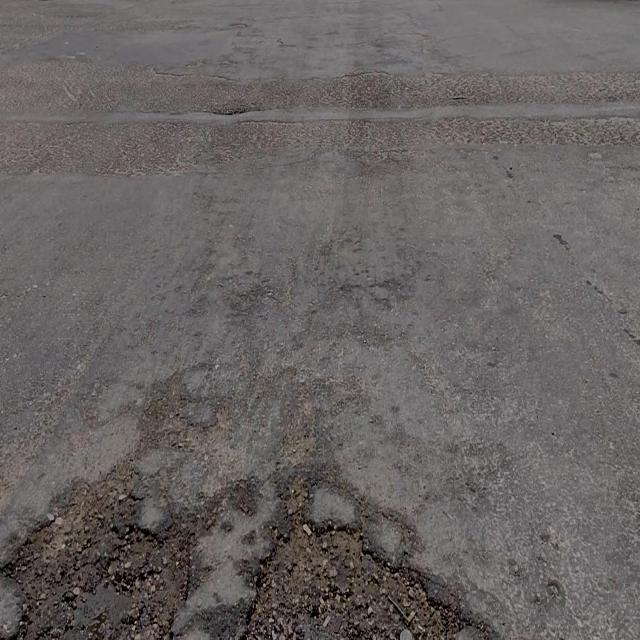Potholes: (0, 465, 190, 640), (232, 503, 474, 640)
